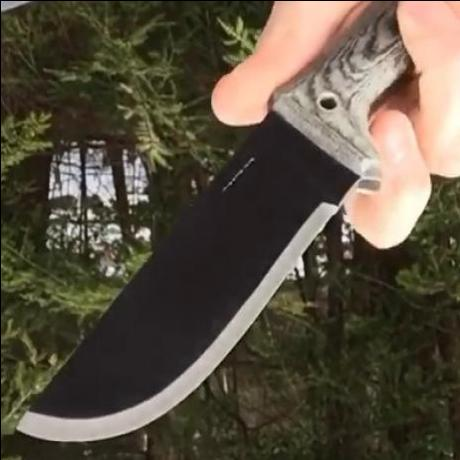weapon: (15, 148, 358, 440)
